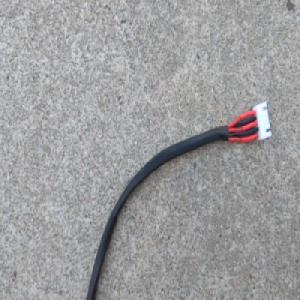Wire: (83, 97, 273, 300)
